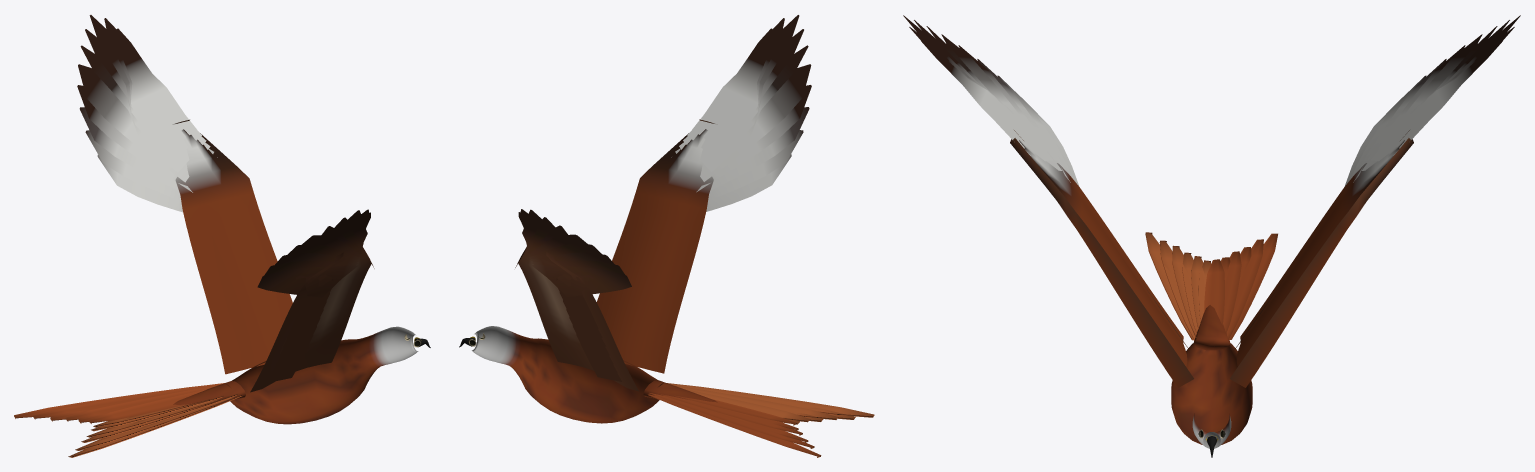
Rendered from SM_Bird_red_kite_flap0.glb.
The picture shows the model from 3 angles, left to right: view 1: azimuth 30°, elevation 25°; view 2: azimuth 150°, elevation 25°; view 3: azimuth 270°, elevation 25°; orthographic projection. The views are drawn at different scales.
Parts seen in each view (by area): view 1: SM_Bird_red_kite_flap0; view 2: SM_Bird_red_kite_flap0; view 3: SM_Bird_red_kite_flap0.
Part boxes in pixels (box(x1,y1,x2,y2)): SM_Bird_red_kite_flap0: box(14, 15, 430, 457); SM_Bird_red_kite_flap0: box(459, 15, 874, 457); SM_Bird_red_kite_flap0: box(903, 15, 1520, 457).
Size of the model in its own units: 0.8247 by 0.6619 by 0.988.
